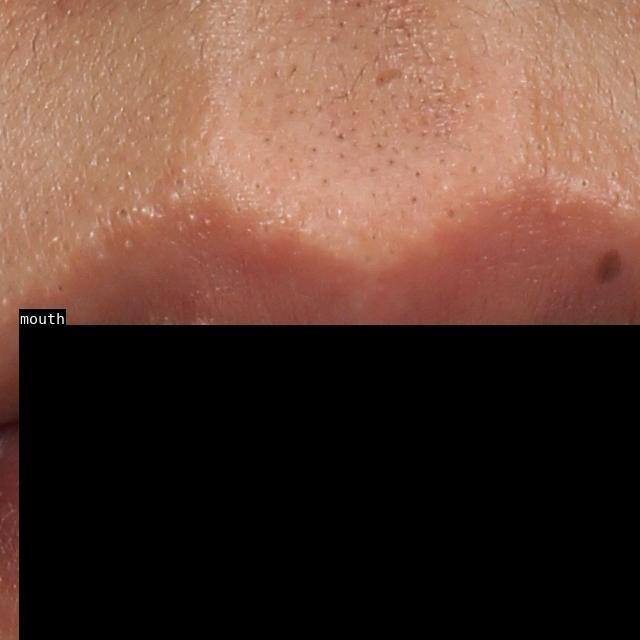atrophic_scar: (373, 68, 406, 90)
comedo: (115, 206, 130, 222)
nevus: (596, 247, 622, 288)
